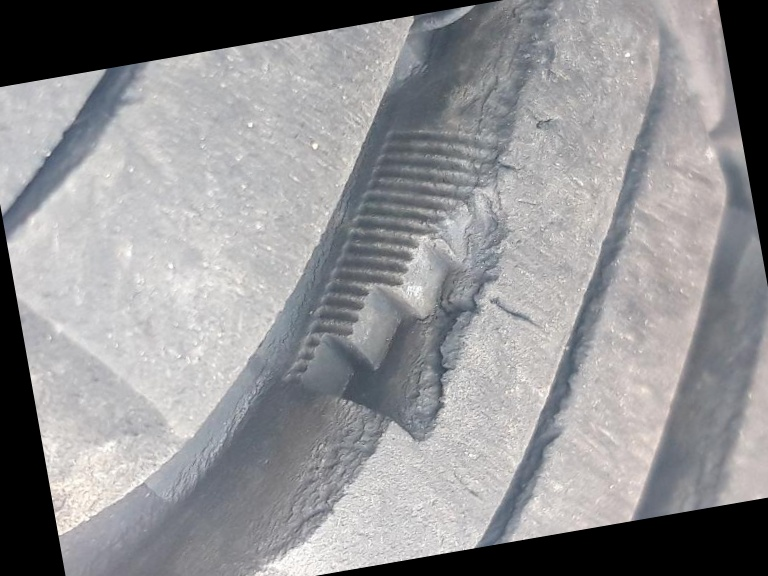temoin:80: (233, 98, 594, 476)
